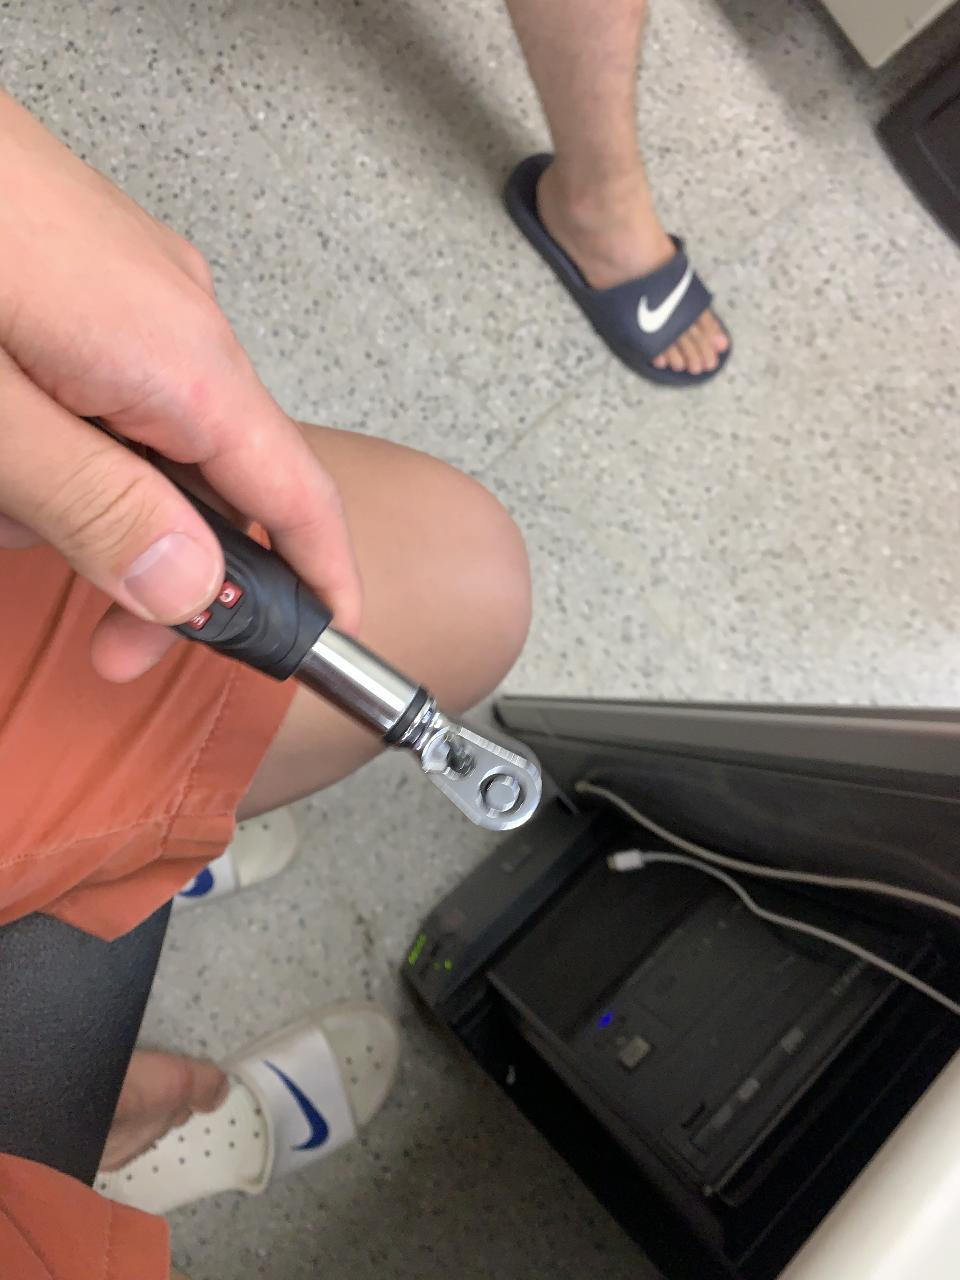Tool: (398, 692, 542, 833)
